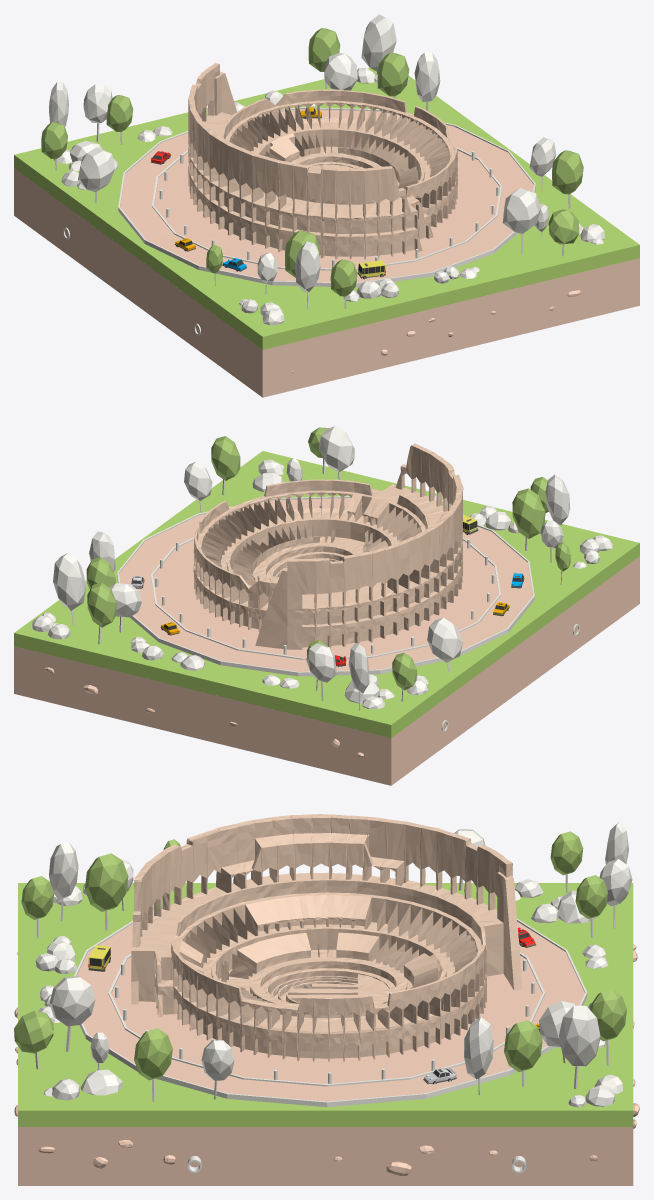
File: Cartoon_Low_Poly_Rome_Coloseum_Landmark.glb
The picture shows the model from 3 angles, top to bottom: view 1: azimuth 30°, elevation 25°; view 2: azimuth 150°, elevation 25°; view 3: azimuth 270°, elevation 25°; orthographic projection. The views are drawn at different scales.
Visible parts, largest first — view 1: Coliseum_2_Arch_0 (×2), Cube_3_Grass_0, Cube_Ground_0, Cylinder_Asphalt_0, Cube_1_Ground_0, Cylinder_Floor_0, Cube_2_Ground_0, Cylinder_White_0, Tree_3_16_Trees_0, Tree_3_5_Trees_0, Tree_3_17_Trees_0, Tree_3_7_Tree 1_0 (+14 smaller); view 2: Coliseum_2_Arch_0 (×2), Cube_3_Grass_0, Cube_Ground_0, Cylinder_Asphalt_0, Cube_1_Ground_0, Cylinder_Floor_0, Cube_2_Ground_0, Cylinder_White_0, Tree_3_16_Trees_0, Tree_3_14_Tree 1_0, Tree_3_5_Trees_0, Tree_3_17_Trees_0 (+11 smaller); view 3: Coliseum_2_Arch_0 (×2), Cube_3_Grass_0, Cube_Ground_0, Cylinder_Floor_0, Cylinder_Asphalt_0, Cube_1_Ground_0, Cube_2_Ground_0, Cylinder_White_0, Tree_3_16_Trees_0, Tree_3_14_Tree 1_0, Tree_3_5_Trees_0, Tree_3_2_Tree 1_0 (+16 smaller).
Boxes of the visible parts, bbox=[...] form: Coliseum_2_Arch_0 (×2): bbox=[188, 62, 457, 259]; Cube_3_Grass_0: bbox=[14, 68, 639, 349]; Cube_Ground_0: bbox=[14, 168, 639, 372]; Cylinder_Asphalt_0: bbox=[120, 109, 533, 282]; Cube_1_Ground_0: bbox=[14, 190, 639, 385]; Cylinder_Floor_0: bbox=[154, 150, 499, 268]; Cube_2_Ground_0: bbox=[14, 204, 639, 397]; Cylinder_White_0: bbox=[118, 107, 535, 287]; Tree_3_16_Trees_0: bbox=[361, 14, 396, 71]; Tree_3_5_Trees_0: bbox=[502, 187, 540, 233]; Tree_3_17_Trees_0: bbox=[78, 147, 115, 192]; Tree_3_7_Tree 1_0: bbox=[377, 52, 409, 96]; Coliseum_2_Arch_0 (×2): bbox=[193, 443, 463, 649]; Cube_3_Grass_0: bbox=[14, 451, 639, 737]; Cube_Ground_0: bbox=[14, 556, 639, 760]; Cylinder_Asphalt_0: bbox=[119, 498, 532, 671]; Cube_1_Ground_0: bbox=[14, 578, 639, 774]; Cylinder_Floor_0: bbox=[153, 540, 498, 657]; Cube_2_Ground_0: bbox=[14, 592, 639, 785]; Cylinder_White_0: bbox=[117, 496, 534, 676]; Tree_3_16_Trees_0: bbox=[53, 552, 86, 610]; Tree_3_14_Tree 1_0: bbox=[512, 488, 545, 538]; Tree_3_5_Trees_0: bbox=[319, 426, 354, 472]; Tree_3_17_Trees_0: bbox=[427, 617, 462, 662]; Coliseum_2_Arch_0 (×2): bbox=[131, 814, 522, 1061]; Cube_3_Grass_0: bbox=[18, 883, 633, 1126]; Cube_Ground_0: bbox=[18, 1127, 633, 1154]; Cylinder_Floor_0: bbox=[111, 955, 542, 1083]; Cylinder_Asphalt_0: bbox=[77, 914, 584, 1101]; Cube_1_Ground_0: bbox=[18, 1154, 633, 1171]; Cube_2_Ground_0: bbox=[18, 1171, 633, 1185]; Cylinder_White_0: bbox=[74, 909, 587, 1107]; Tree_3_16_Trees_0: bbox=[559, 1005, 600, 1066]; Tree_3_14_Tree 1_0: bbox=[85, 853, 128, 911]; Tree_3_5_Trees_0: bbox=[49, 976, 95, 1026]; Tree_3_2_Tree 1_0: bbox=[134, 1028, 172, 1080].
Size of the model in its own units: 12407 by 4687 by 14066.
6 materials, 1 textured.
